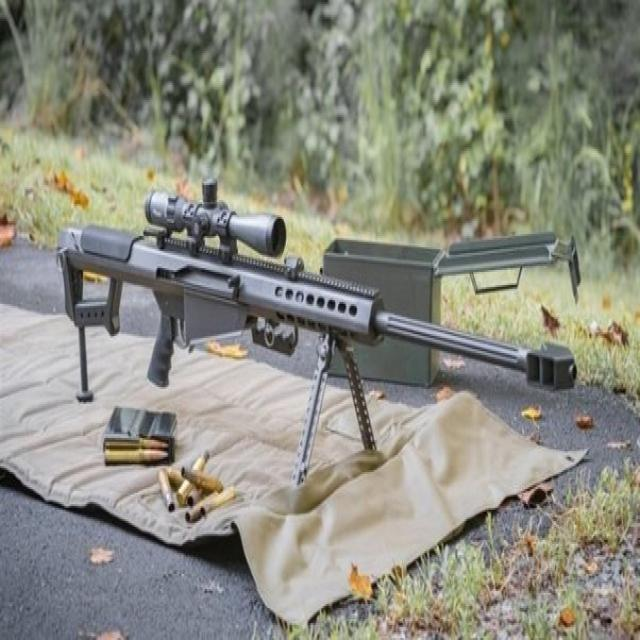rifle: (51, 160, 584, 428)
